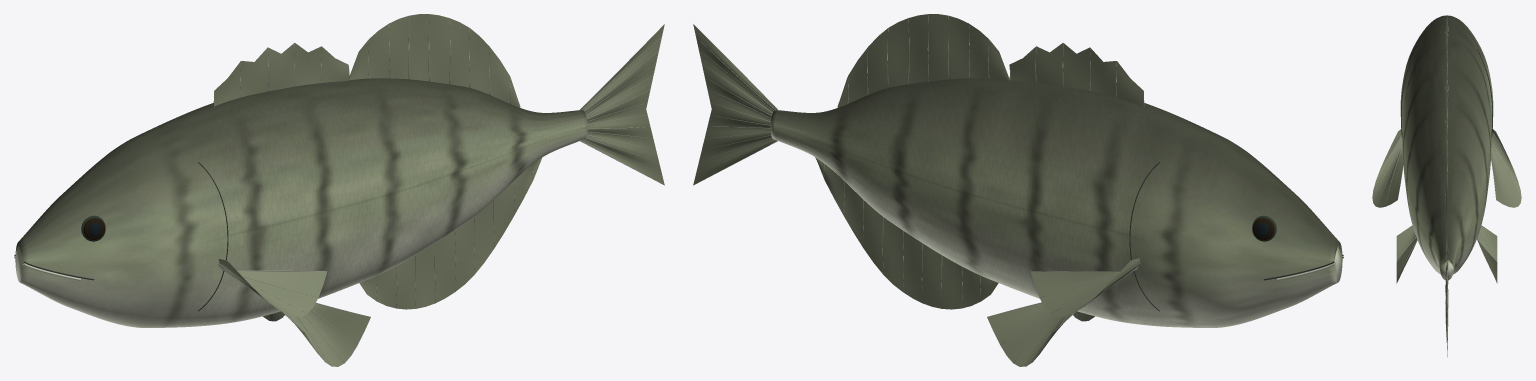
File: white-crappie.glb
3 views of the same model, side by side, from view 1: azimuth 30°, elevation 25°; view 2: azimuth 150°, elevation 25°; view 3: azimuth 270°, elevation 25° (orthographic). The views are drawn at different scales.
Parts seen in each view (by area): view 1: white-crappie specimen.001; view 2: white-crappie specimen.001; view 3: white-crappie specimen.001.
Boxes of the visible parts, <box> form: white-crappie specimen.001: <box>14,14,664,366</box>; white-crappie specimen.001: <box>693,14,1343,366</box>; white-crappie specimen.001: <box>1372,15,1521,356</box>.
Bounding box in the file's own units: 2.26 × 1.02 × 0.5572.
7 materials, 3 textured.
